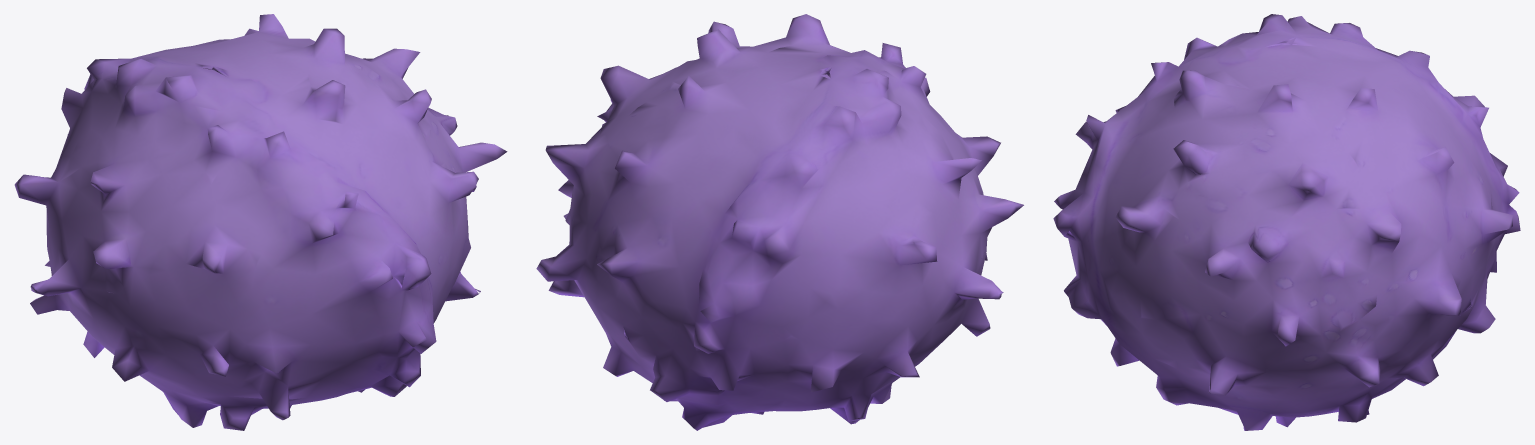
3 renders of one model, left to right at view 1: azimuth 30°, elevation 25°; view 2: azimuth 150°, elevation 25°; view 3: azimuth 270°, elevation 25°, orthographic. The views are drawn at different scales.
Parts seen in each view (by area): view 1: nk; view 2: nk; view 3: nk.
Part boxes in pixels (x1,y1,x2,y2): nk: (14, 14, 507, 430); nk: (536, 14, 1023, 430); nk: (1053, 14, 1520, 430).
Size of the model in its own units: 2.84 by 2.28 by 2.68.
Materials: 1 (1 with a texture image).
